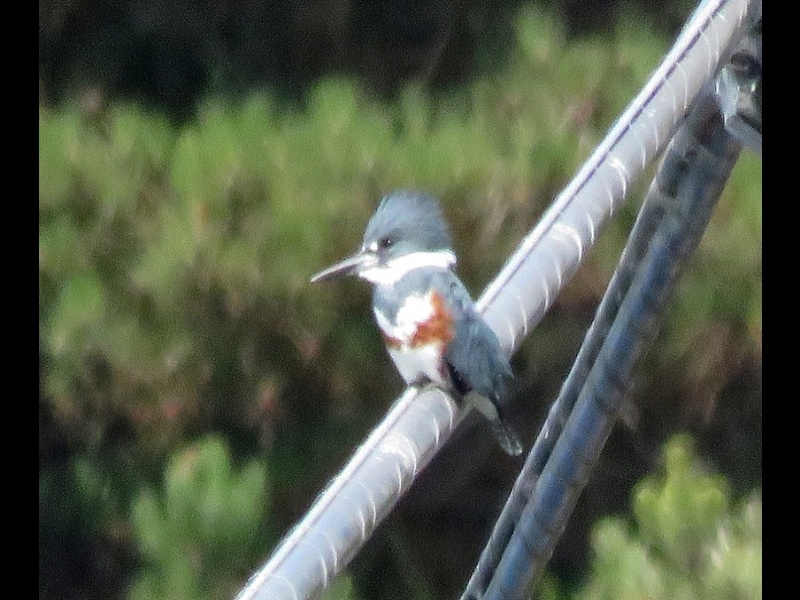kingfisher: (307, 187, 526, 459)
